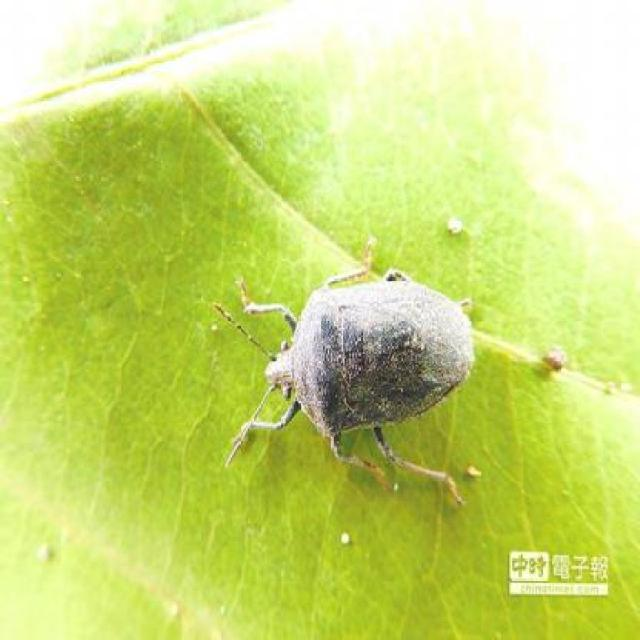rice-bug: (220, 246, 486, 485)
